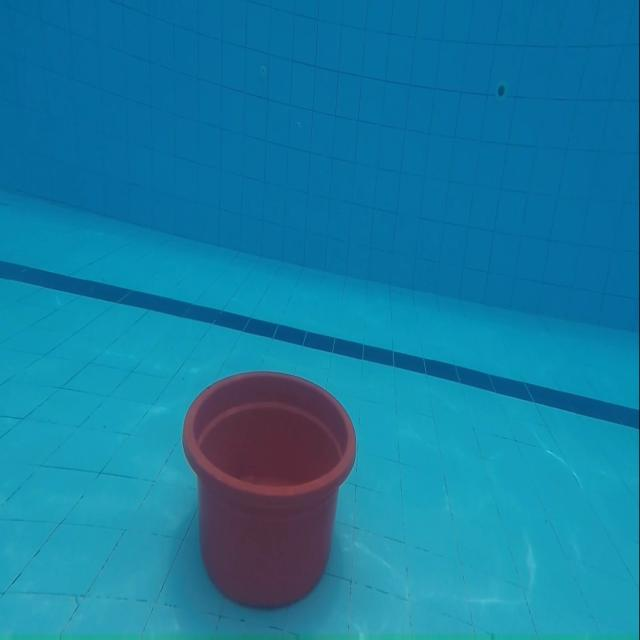ember: (184, 370, 359, 610)
